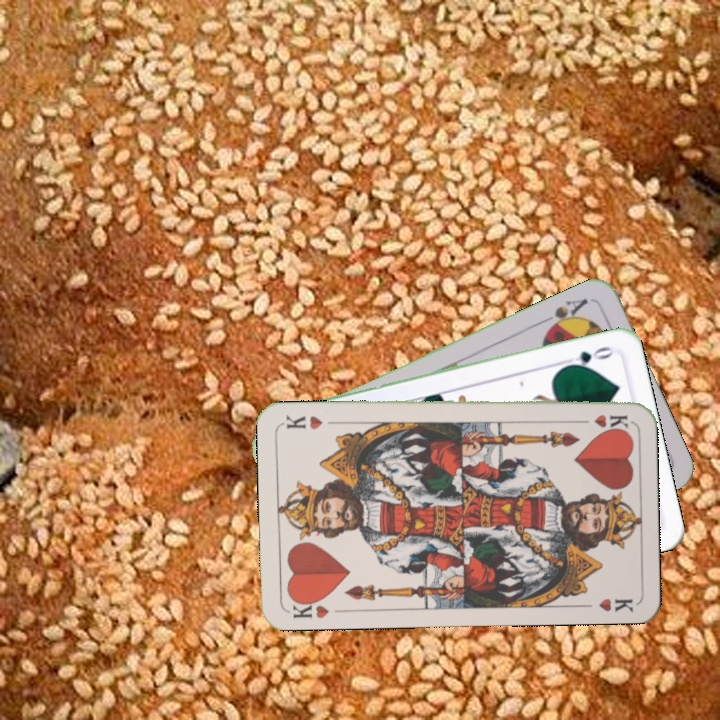GO: (559, 342, 616, 371)
HK: (285, 594, 331, 621), (571, 410, 631, 430)
SA: (537, 294, 591, 335)
